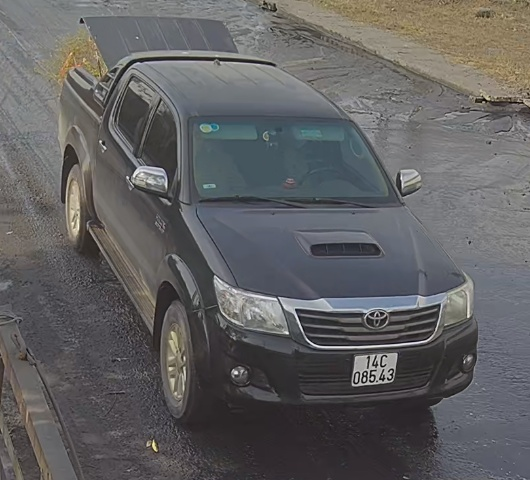vehicle plate: (342, 343, 404, 389)
